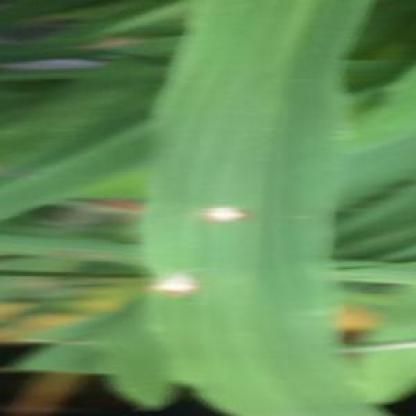Rice blast: (143, 261, 204, 293), (194, 195, 248, 230)
